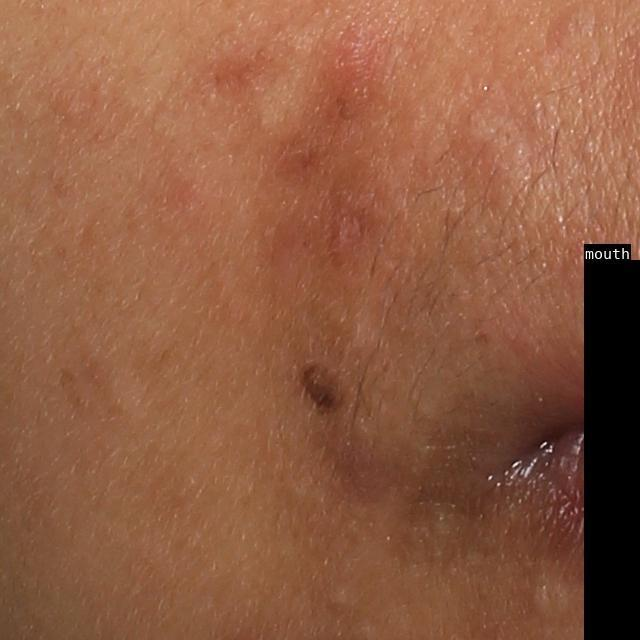comedo: (324, 583, 351, 614)
hypertrophic_scar: (468, 108, 539, 210), (521, 569, 577, 627)
nevus: (286, 360, 347, 421)
papule: (318, 20, 403, 119)
